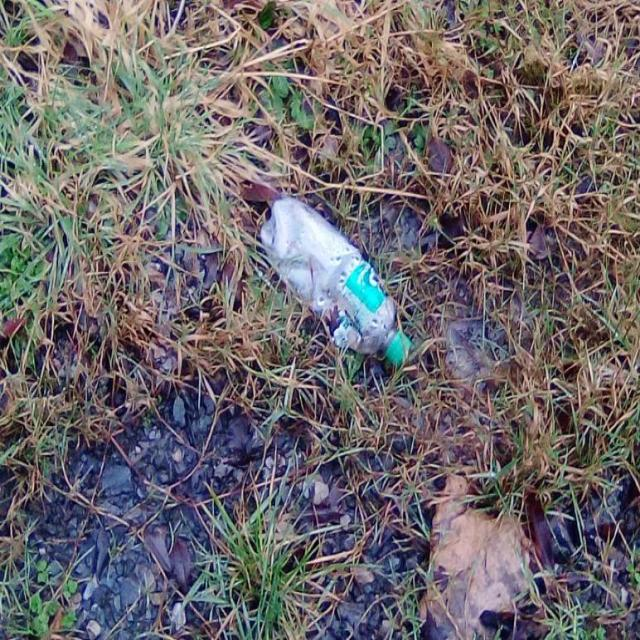bottle: (251, 173, 422, 385)
